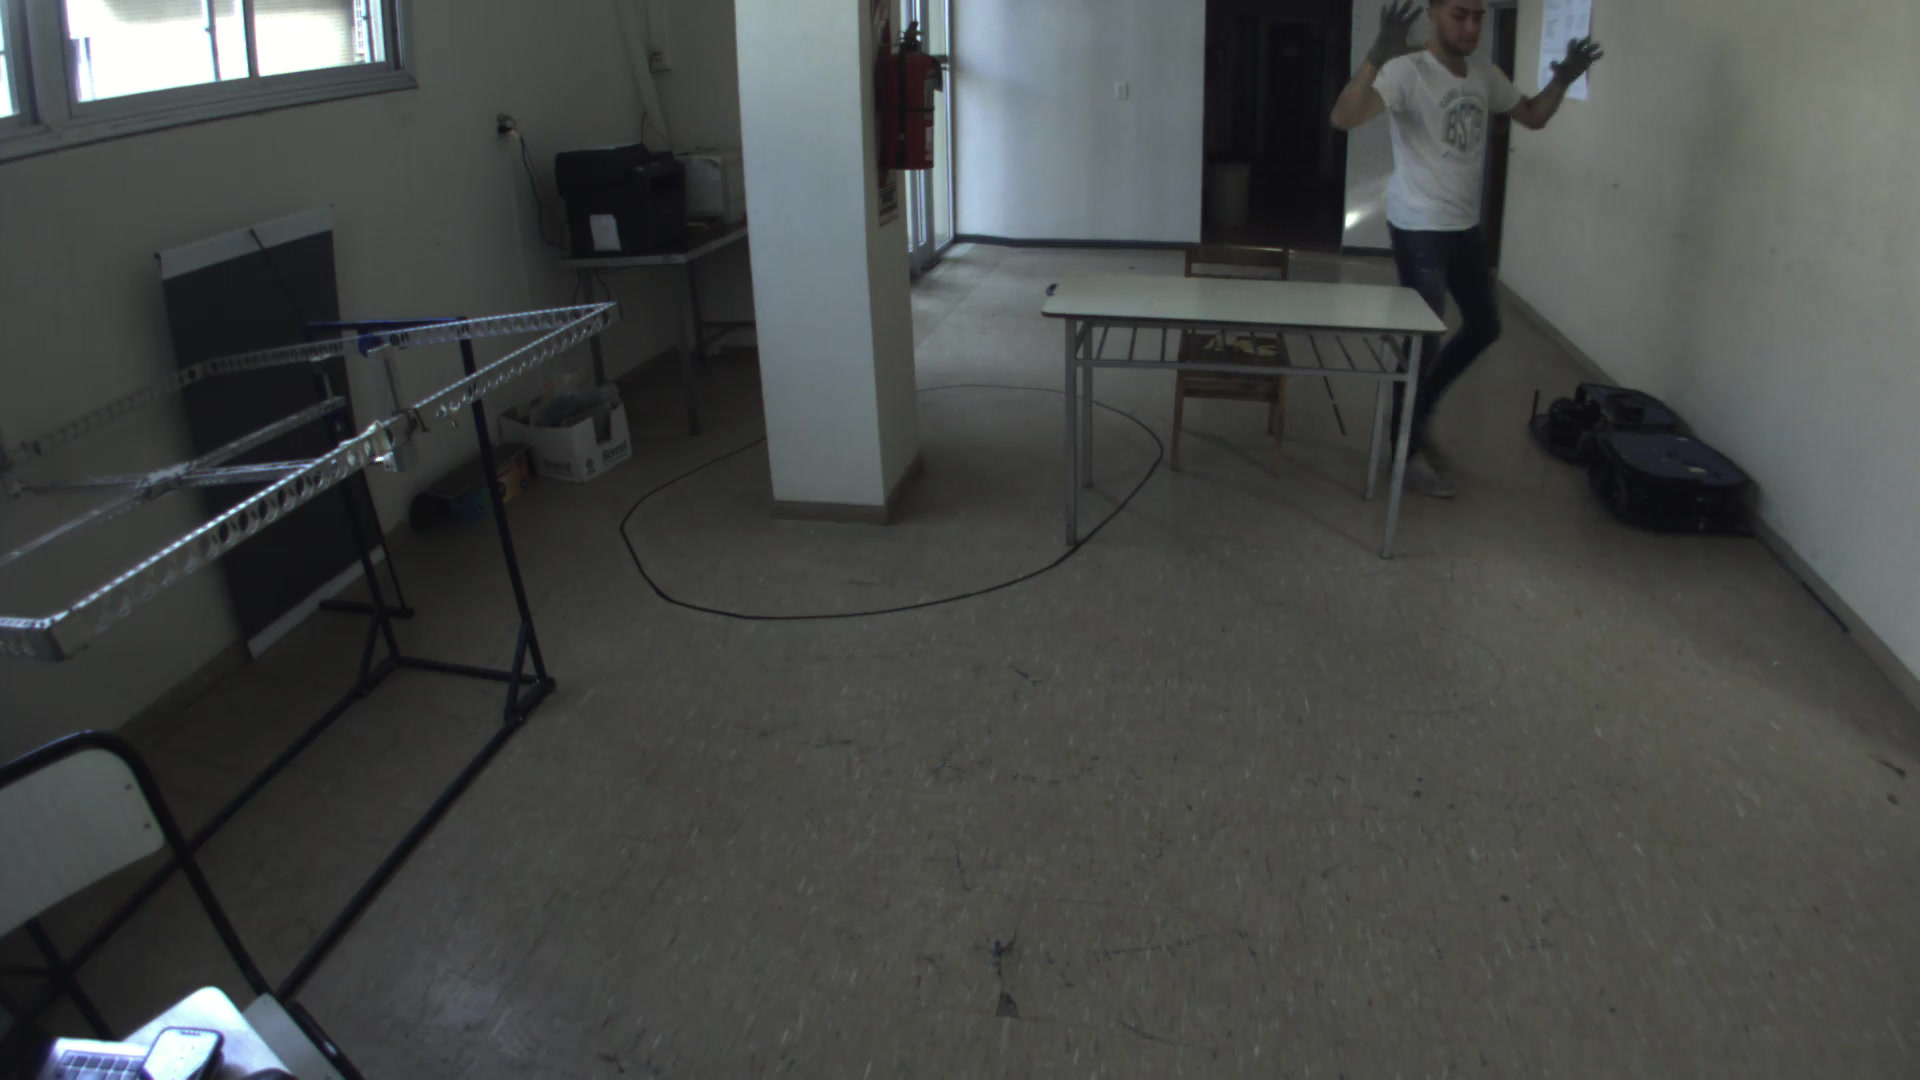hand: (1360, 1, 1436, 73), (1540, 29, 1614, 88)
